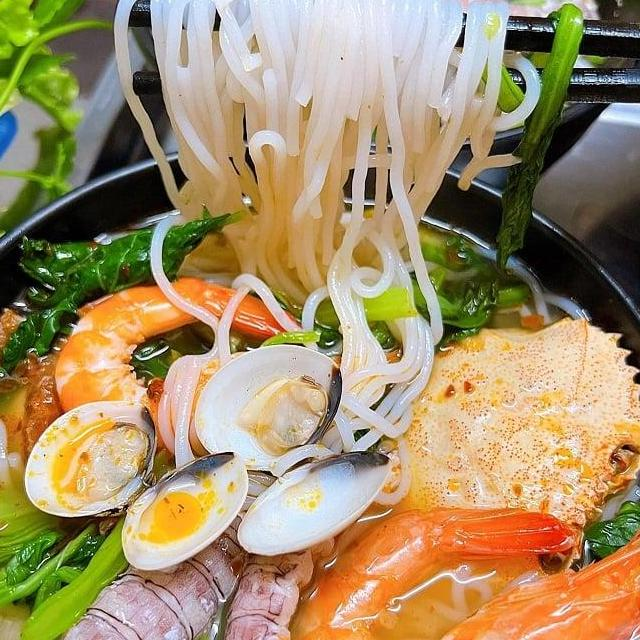bun: (106, 0, 546, 357), (291, 276, 443, 513)
bun hai san: (0, 3, 640, 640)
tom: (269, 452, 640, 640), (50, 274, 313, 462)
tom tit: (29, 464, 286, 640), (211, 497, 354, 640)
